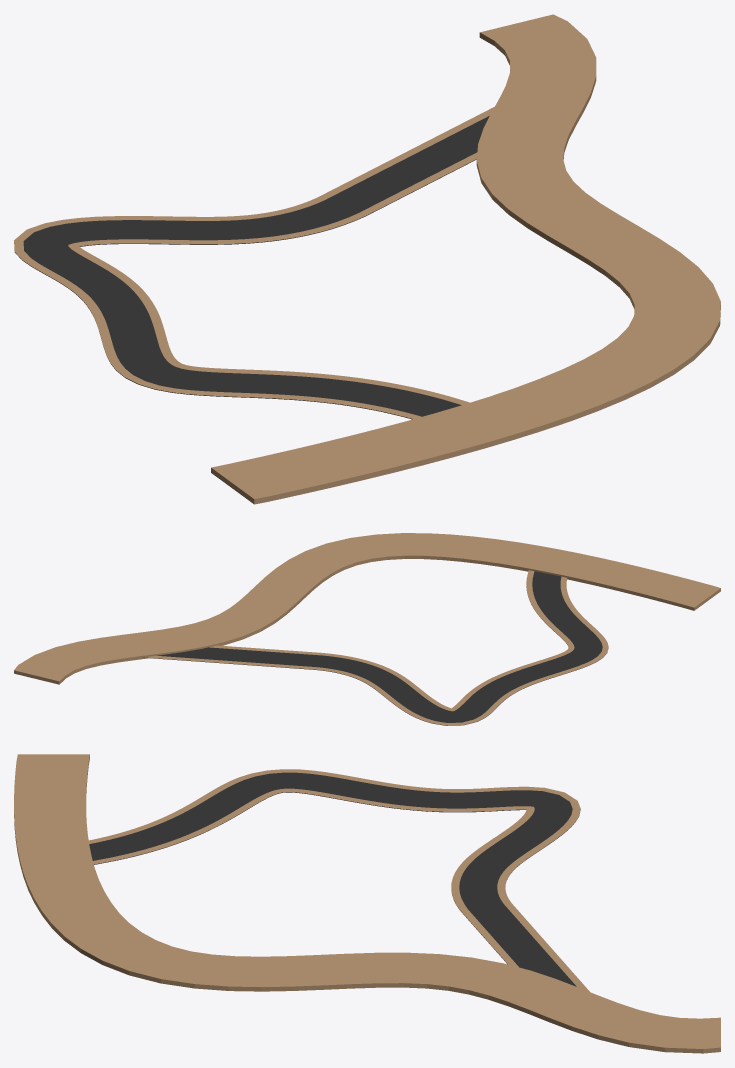
Rendered from Road2.fbx.
3 views of the same model, one above another, from view 1: azimuth 30°, elevation 25°; view 2: azimuth 150°, elevation 25°; view 3: azimuth 270°, elevation 25° (orthographic). The views are drawn at different scales.
Parts seen in each view (by area): view 1: Road, Cube; view 2: Road, Cube; view 3: Road, Cube.
Part boxes in pixels (box(x1,y1,x2,y2)): Road: box(211, 14, 720, 504); Cube: box(14, 107, 494, 419); Road: box(14, 533, 720, 684); Cube: box(143, 570, 608, 725); Road: box(14, 754, 720, 1053); Cube: box(88, 769, 589, 991).
Size of the model in its own units: 9364 by 66.14 by 9495.
